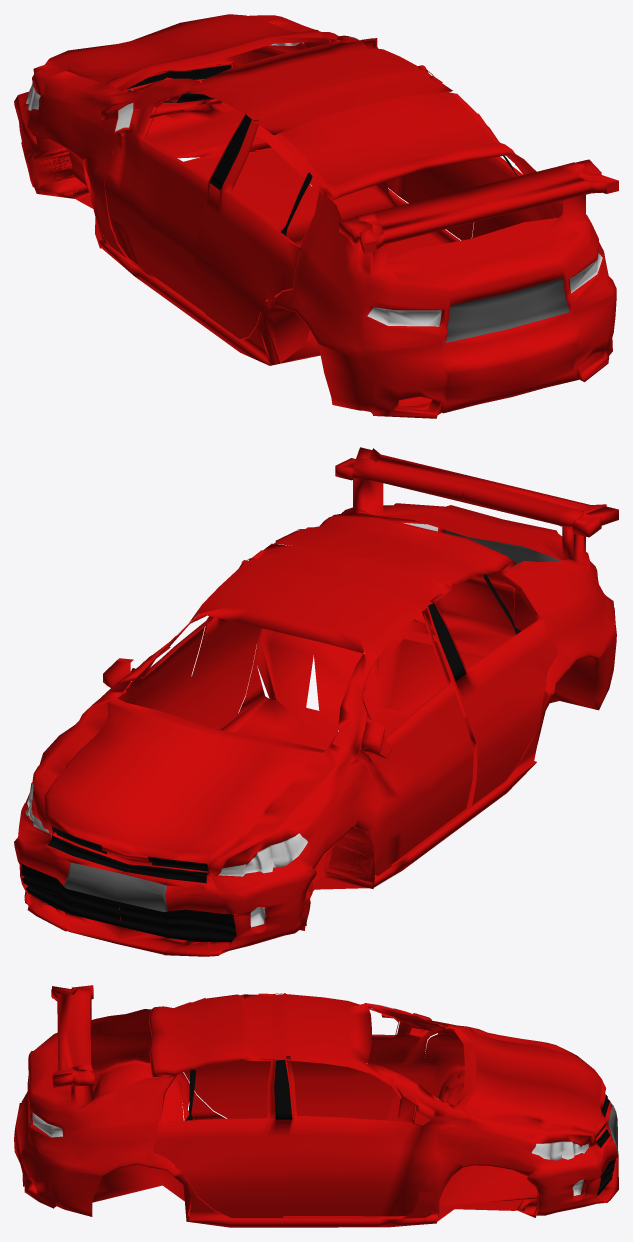
Rendered from vehicule.obj.
3 views of the same model, one above another, from view 1: azimuth 30°, elevation 25°; view 2: azimuth 150°, elevation 25°; view 3: azimuth 270°, elevation 25° (orthographic). The views are drawn at different scales.
Visible parts, largest first — view 1: Cube, Cube.002, Cube.004, Cube.003; view 2: Cube, Cube.002, Cube.004, Cube.003; view 3: Cube, Cube.002, Cube.003, Cube.004.
Boxes of the visible parts, bbox=[...] form: Cube: bbox=[14, 14, 618, 418]; Cube.002: bbox=[194, 69, 553, 339]; Cube.004: bbox=[101, 92, 212, 312]; Cube.003: bbox=[360, 38, 475, 240]; Cube: bbox=[14, 447, 618, 956]; Cube.002: bbox=[191, 527, 557, 805]; Cube.004: bbox=[354, 608, 473, 864]; Cube.003: bbox=[103, 560, 248, 723]; Cube: bbox=[14, 985, 618, 1227]; Cube.002: bbox=[153, 993, 294, 1217]; Cube.003: bbox=[283, 1055, 454, 1216]; Cube.004: bbox=[287, 1008, 437, 1120].
Bounding box in the file's own units: 10.76 × 7.63 × 26.1.
